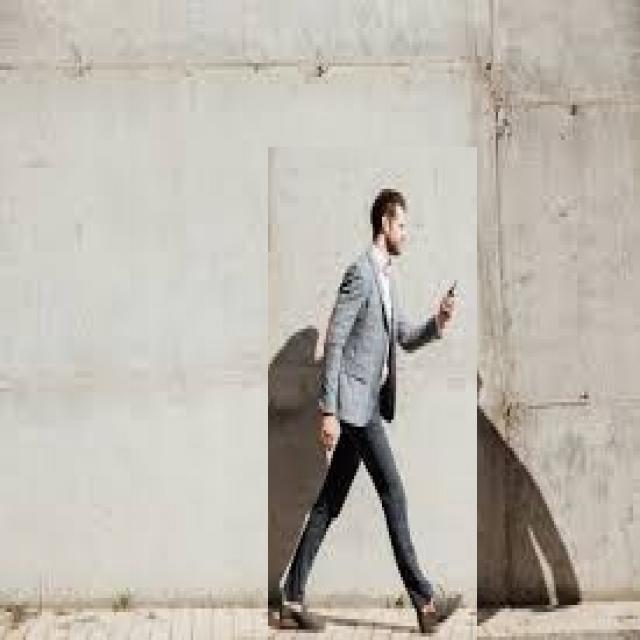NotFall: (246, 166, 489, 640)
